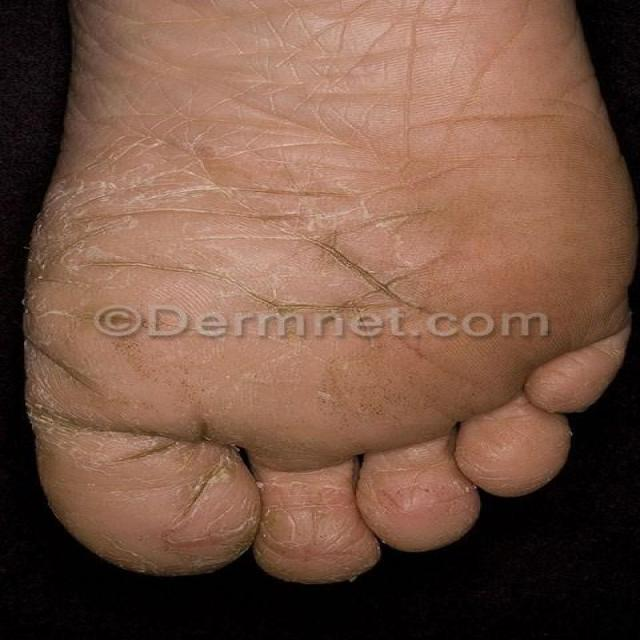liquenificacion 1: (33, 0, 613, 434)
